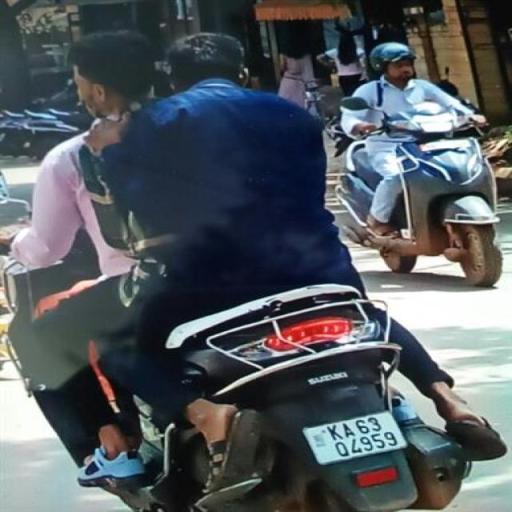tripple riding: (6, 20, 408, 352)
